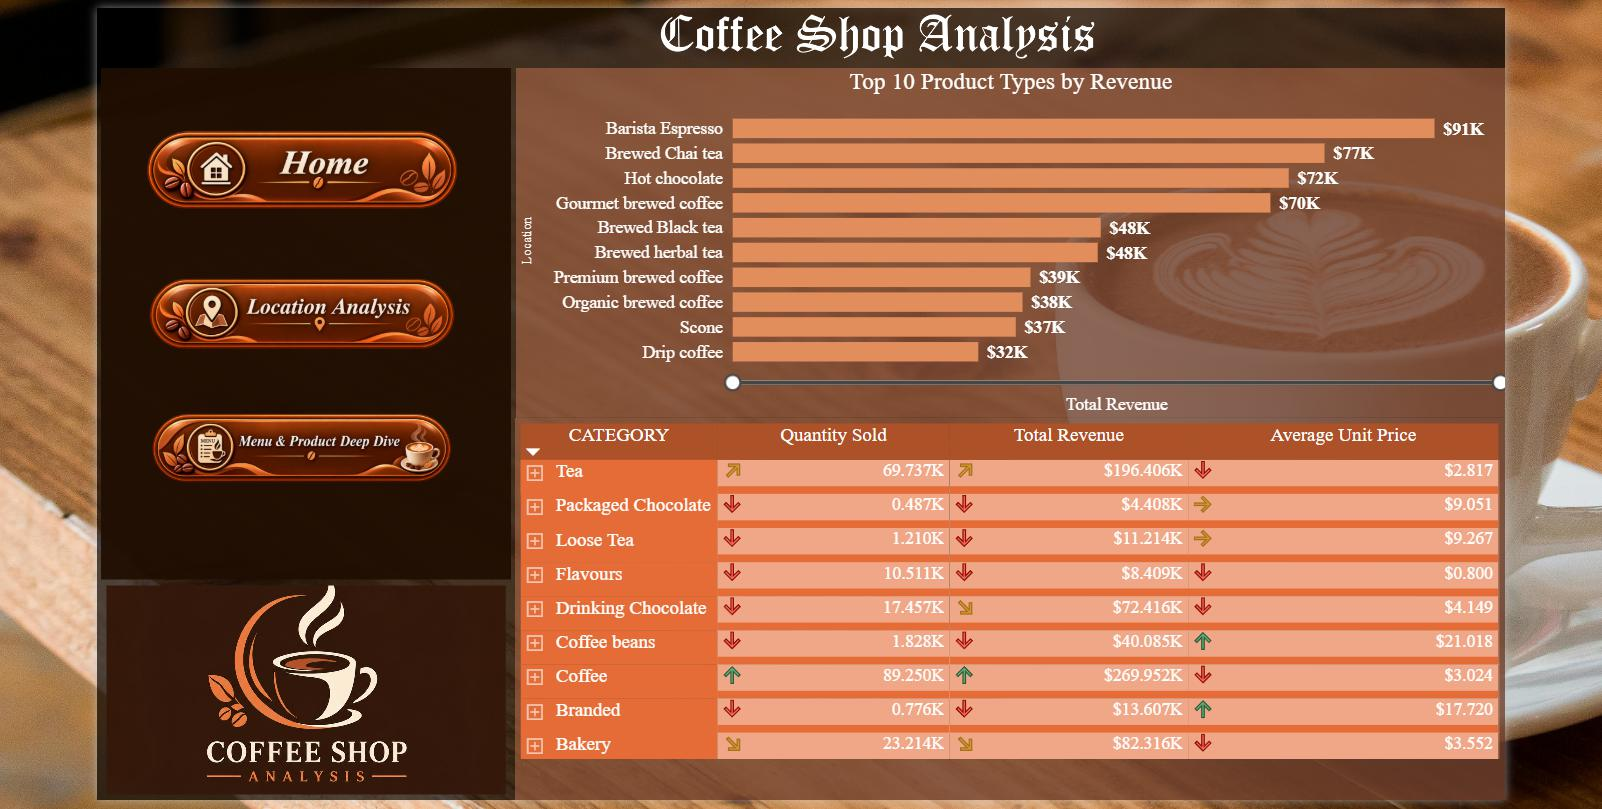

This screenshot's page, from the dashboard's own definition file:
{"tool":"powerbi","page":{"name":" Menu & Product Deep Dive","canvas":[1280,720],"ordinal":2},"visuals":[{"type":"clusteredBarChart","title":"Top 10 Product Types by Revenue","fields":{"Category":["TRANSACTIONS.PRODUCT_TYPE"],"Y":["TRANSACTIONS.TOTAL_AMT_SUMX"]},"box":[380.9,54.5,900,318.2],"z":0},{"type":"pivotTable","fields":{"Rows":["TRANSACTIONS.PRODUCT_CATEGORY","TRANSACTIONS.PRODUCT_TYPE","TRANSACTIONS.PRODUCT_DETAIL"],"Values":["TRANSACTIONS.TOTAL_QUANTITY_SOLD","TRANSACTIONS.TOTAL_AMT_SUMX","TRANSACTIONS.AVERAGE_UNIT_PRICE"]},"box":[380,372.7,900,347.3],"z":1000},{"type":"image","box":[3.6,520,372.7,200],"z":2000},{"type":"image","box":[438.2,0.9,556.4,54.5],"z":3000},{"type":"shape","box":[3.6,54.5,372.7,465.5],"z":4000},{"type":"image","box":[36.4,82.7,300,130.9],"z":5000},{"type":"image","box":[36.4,213.6,300,130.9],"z":6000},{"type":"image","box":[36.4,336.4,300,130.9],"z":7000}]}

Visuals, with their boxes on the page's 1280x720 design canvas (x1, y1, x2, y2). These are canvas units, not pixel positions in the 1602x809 screenshot, which may show the page scaled, cropped or inside an application window:
"Top 10 Product Types by Revenue" clusteredBarChart: {"x1": 381, "y1": 54, "x2": 1281, "y2": 373}
pivotTable - TRANSACTIONS.PRODUCT_CATEGORY x TRANSACTIONS.PRODUCT_TYPE: {"x1": 380, "y1": 373, "x2": 1280, "y2": 720}
image: {"x1": 4, "y1": 520, "x2": 376, "y2": 720}
image: {"x1": 438, "y1": 1, "x2": 995, "y2": 55}
shape: {"x1": 4, "y1": 54, "x2": 376, "y2": 520}
image: {"x1": 36, "y1": 83, "x2": 336, "y2": 214}
image: {"x1": 36, "y1": 214, "x2": 336, "y2": 344}
image: {"x1": 36, "y1": 336, "x2": 336, "y2": 467}
